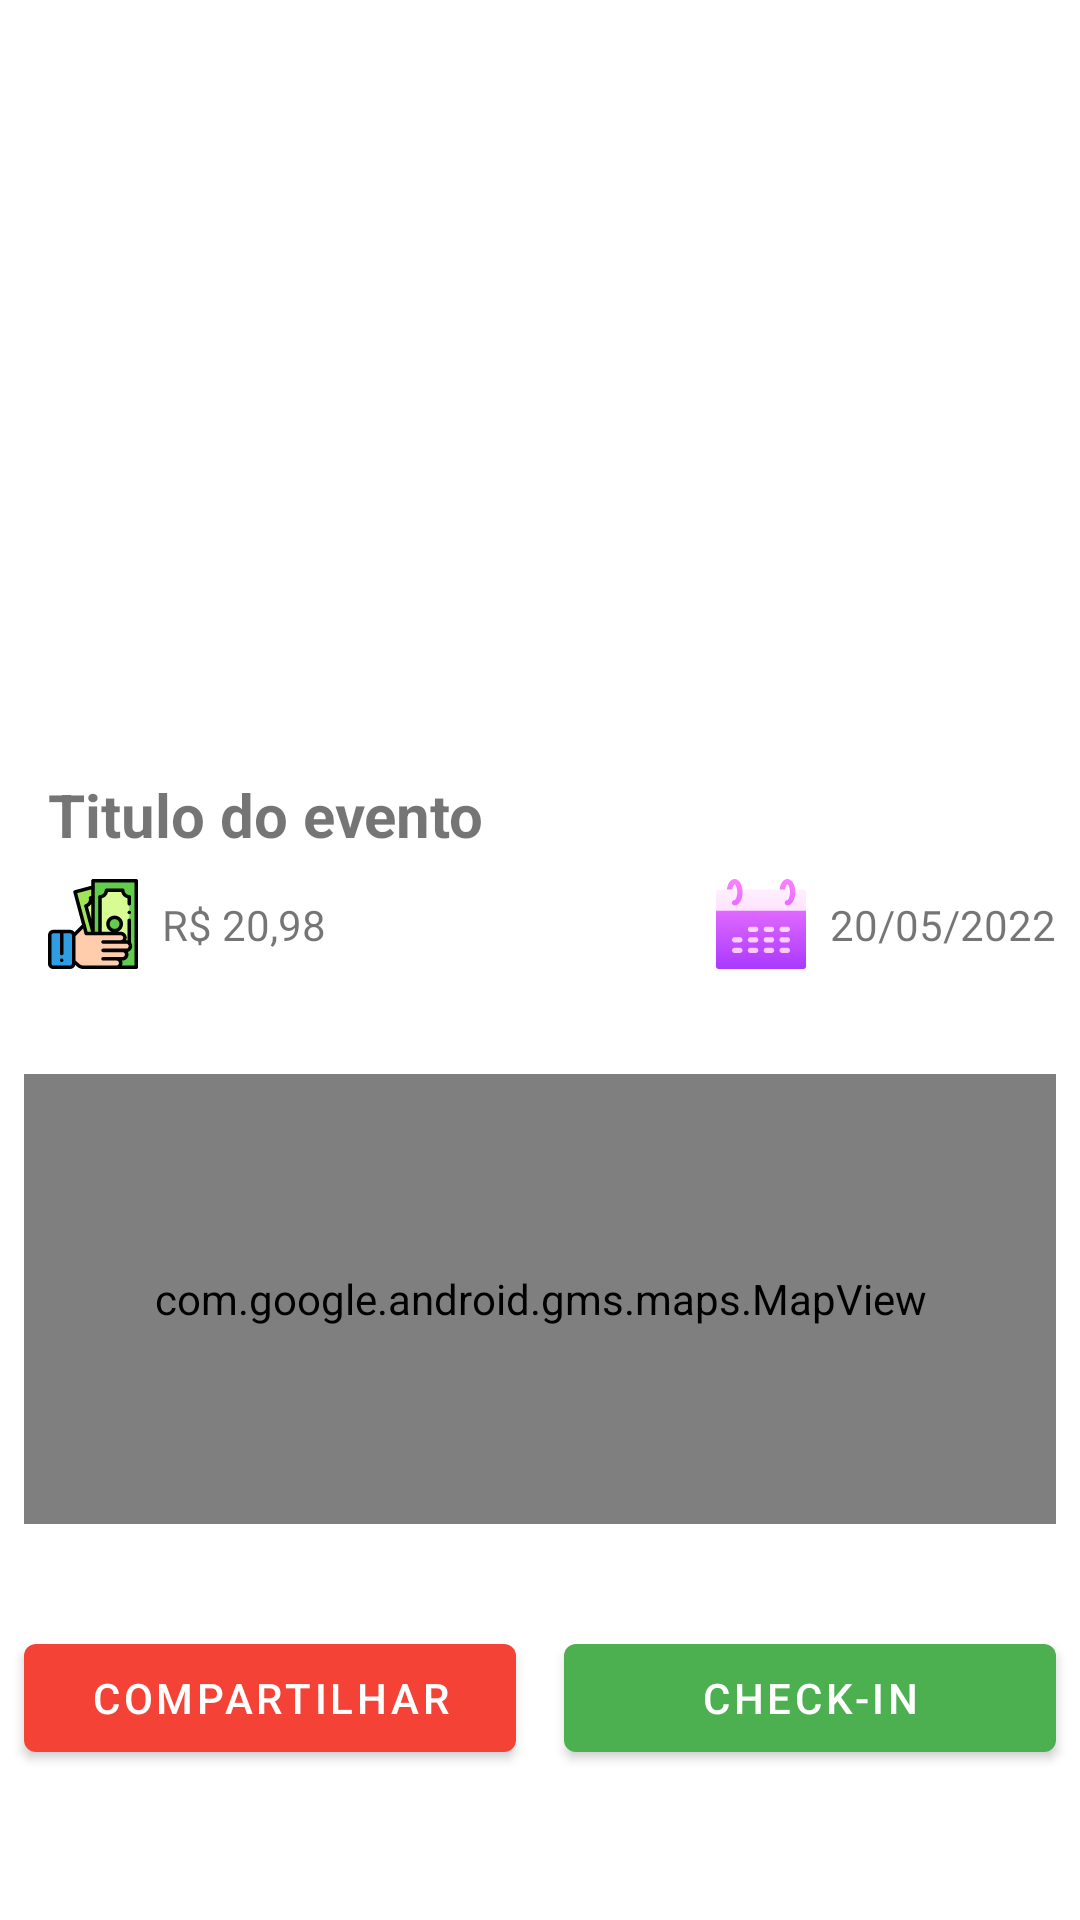

Where icons sit on this 1080 × 1920 app screen, as {"x1": x1, "y1": y1, "x2": x2, "y2": y2}:
calendario: {"x1": 716, "y1": 879, "x2": 806, "y2": 969}
dinheiro: {"x1": 48, "y1": 879, "x2": 138, "y2": 969}
